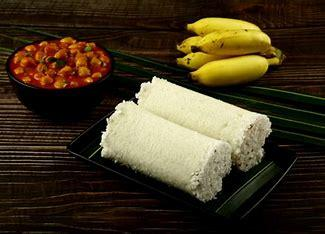Pittu: (92, 70, 287, 206)
